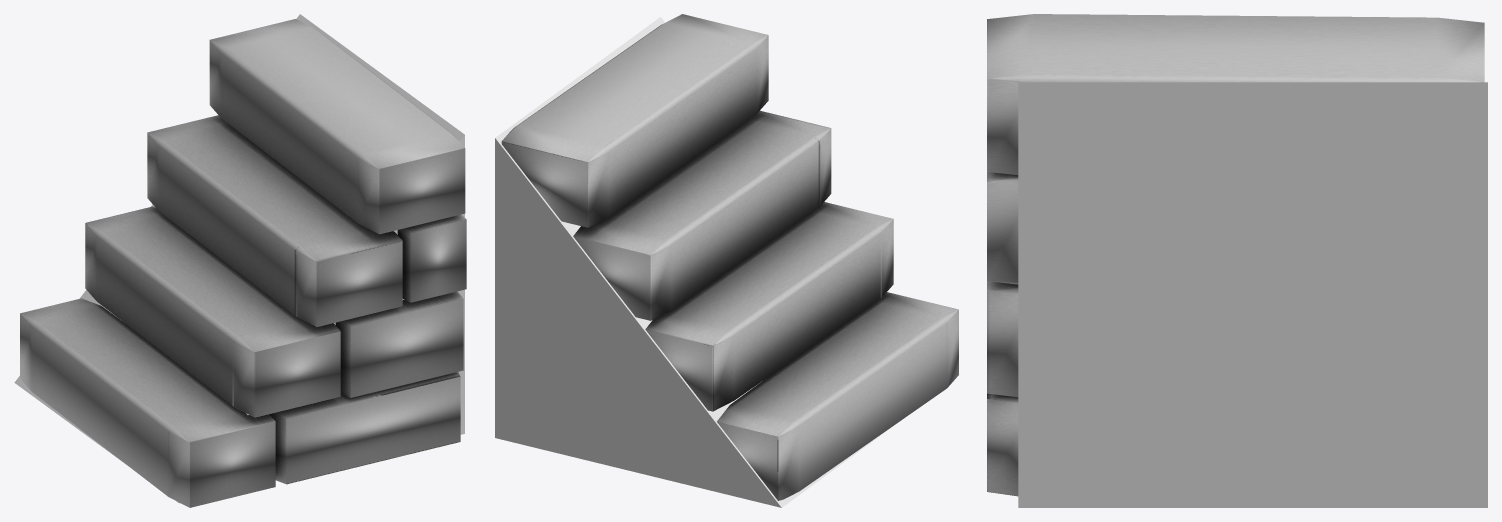
Rendered from Stairs.fbx.
3 renders of one model, left to right at view 1: azimuth 30°, elevation 25°; view 2: azimuth 150°, elevation 25°; view 3: azimuth 270°, elevation 25°, orthographic. The views are drawn at different scales.
Parts seen in each view (by area): view 1: block4, Cube.007; view 2: block4, Cube.007; view 3: Cube.007, block4.
Part boxes in pixels (left/top/right/bottom): block4: left=20, top=19, right=466, bottom=507; Cube.007: left=14, top=14, right=464, bottom=503; block4: left=501, top=14, right=958, bottom=500; Cube.007: left=495, top=17, right=899, bottom=507; Cube.007: left=1018, top=82, right=1487, bottom=507; block4: left=987, top=14, right=1484, bottom=496.
Bounding box in the file's own units: 1.02 × 1 × 1.07.
